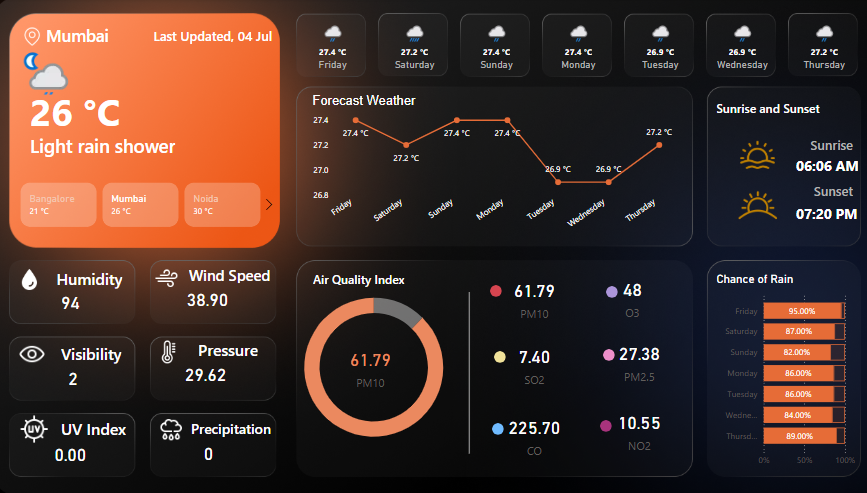

Layout of this report page (visuals, bound fields, positions):
{"tool":"powerbi","page":{"name":"Page 1","canvas":[1280,720],"ordinal":0},"visuals":[{"type":"advancedSlicerVisual","fields":{"Values":["Location.location.name"]},"box":[16,260,398,74],"z":0},{"type":"shape","box":[54,88,214,148],"z":1000},{"type":"shape","box":[54,162,376,98],"z":2000},{"type":"shape","box":[78,10,188,86],"z":3000},{"type":"shape","box":[100,26,304,56],"z":4000},{"type":"image","box":[16,38,84,36],"z":5000},{"type":"cardVisual","fields":{"Data":["Min(Current.current.condition.icon)"]},"box":[16.2,56.2,117.5,88.8],"z":6000},{"type":"image","box":[15.8,384.5,76.3,41.8],"z":7000},{"type":"image","box":[200,382,102,44],"z":8000},{"type":"image","box":[6,594,110,52],"z":9000},{"type":"image","box":[216,598,84,48],"z":10000},{"type":"image","box":[218.9,488.2,70.6,43.2],"z":11000},{"type":"image","box":[22,486,72,52],"z":12000},{"type":"shape","box":[80.6,381.6,119.5,43.2],"z":13000},{"type":"shape","box":[269.3,384.5,145.4,25.9],"z":14000},{"type":"shape","box":[100,490,120,44],"z":15000},{"type":"shape","box":[296.6,483.8,108,43.2],"z":16000},{"type":"shape","box":[286.6,593.3,169.9,51.8],"z":17000},{"type":"shape","box":[100,598,120,44],"z":18000},{"type":"card","fields":{"Values":["Sum(Current.current.humidity)"]},"box":[10.1,410.4,205.9,56.2],"z":19000},{"type":"card","fields":{"Values":["Sum(Current.current.wind_kph)"]},"box":[216,406.1,188.6,56.2],"z":20000},{"type":"card","fields":{"Values":["Sum(Current.current.vis_km)"]},"box":[12.9,520,207.1,54.3],"z":21000},{"type":"card","fields":{"Values":["Sum(Current.current.pressure_in)"]},"box":[204.5,514.1,205.9,56.2],"z":22000},{"type":"card","fields":{"Values":["Sum(Current.current.uv)"]},"box":[10,628.6,205.7,55.7],"z":23000},{"type":"card","fields":{"Values":["Sum(Current.current.precip_in)"]},"box":[208.8,627.8,205.9,54.7],"z":24000},{"type":"advancedSlicerVisual","fields":{"Values":["Forecast_days.Day_Name"]},"box":[430,25,828.8,97.5],"z":25000},{"type":"lineChart","title":"Forecast Weather","fields":{"Y":["Sum(Forecast_days.forecast.forecastday.day.avgtemp_c)"],"Category":["Forecast_days.Day_Name"]},"box":[456.5,136.8,538.6,210.2],"z":26000},{"type":"shape","box":[995,136.8,244.8,43.2],"z":27000},{"type":"shape","box":[1157.8,204.5,122.4,73.4],"z":28000},{"type":"shape","box":[1157.6,252,122.4,115.2],"z":29000},{"type":"shape","box":[1103,190.1,136.8,43.2],"z":30000},{"type":"shape","box":[1077.1,256.3,162.7,43.2],"z":31000},{"type":"image","box":[1048.3,195.8,108,60.5],"z":32000},{"type":"image","box":[1059.8,256.3,86.4,83.5],"z":33000},{"type":"hundredPercentStackedBarChart","title":"   Chance of Rain","fields":{"Y":["Sum(Forecast_days.forecast.forecastday.day.daily_chance_of_rain)","_Measure.Left_value_Rain"],"Category":["Forecast_days.Day_Name"]},"box":[1038,395,210,289],"z":34000},{"type":"shape","box":[405.7,382.9,244.3,42.9],"z":34001},{"type":"card","fields":{"Values":["Sum(Current.current.air_quality.o3)"]},"box":[817.1,382.9,211.4,94.3],"z":34002},{"type":"card","fields":{"Values":["Sum(Current.current.air_quality.pm2_5)"]},"box":[827.1,475.7,211.4,94.3],"z":34003},{"type":"card","fields":{"Values":["Sum(Current.current.air_quality.no2)"]},"box":[827.1,574.3,211.4,94.3],"z":34004},{"type":"card","fields":{"Values":["Sum(Current.current.air_quality.pm10)"]},"box":[675.7,384.3,211.4,94.3],"z":34005},{"type":"card","fields":{"Values":["Sum(Current.current.air_quality.so2)"]},"box":[675.7,480,211.4,94.3],"z":34006},{"type":"card","fields":{"Values":["Sum(Current.current.air_quality.co)"]},"box":[675.7,581.4,211.4,94.3],"z":34007},{"type":"shape","box":[717.1,412.9,17.1,17.1],"z":34008},{"type":"shape","box":[722.9,508.6,17.1,17.1],"z":34009},{"type":"shape","box":[720,611.4,17.1,17.1],"z":34010},{"type":"shape","box":[875.7,607.1,17.1,17.1],"z":34011},{"type":"shape","box":[880,505.7,17.1,17.1],"z":34012},{"type":"shape","box":[884.3,414.3,17.1,17.1],"z":34013},{"type":"shape","box":[567.1,422.9,240,232.9],"z":34014},{"type":"card","fields":{"Values":["Sum(Current.current.air_quality.pm10)"]},"box":[438.6,484.3,211.4,94.3],"z":34015},{"type":"donutChart","fields":{"Y":["Sum(Current.current.air_quality.pm10)","_Measure.Left_value_pm10"]},"box":[414.3,401.4,270,260],"z":34016}]}

Visuals, with their boxes in screenshot pixels (x1, y1, x2, y2), scaled from the page's 1280x720 canvas onto the 867x493 screenshot:
advancedSlicerVisual - Location.location.name: (x1=11, y1=178, x2=280, y2=229)
shape: (x1=37, y1=60, x2=182, y2=162)
shape: (x1=37, y1=111, x2=291, y2=178)
shape: (x1=53, y1=7, x2=180, y2=66)
shape: (x1=68, y1=18, x2=274, y2=56)
image: (x1=11, y1=26, x2=68, y2=51)
cardVisual - Min(Current.current.condition.icon): (x1=11, y1=38, x2=91, y2=99)
image: (x1=11, y1=263, x2=62, y2=292)
image: (x1=135, y1=262, x2=205, y2=292)
image: (x1=4, y1=407, x2=79, y2=442)
image: (x1=146, y1=409, x2=203, y2=442)
image: (x1=148, y1=334, x2=196, y2=364)
image: (x1=15, y1=333, x2=64, y2=368)
shape: (x1=55, y1=261, x2=136, y2=291)
shape: (x1=182, y1=263, x2=281, y2=281)
shape: (x1=68, y1=336, x2=149, y2=366)
shape: (x1=201, y1=331, x2=274, y2=361)
shape: (x1=194, y1=406, x2=309, y2=442)
shape: (x1=68, y1=409, x2=149, y2=440)
card - Sum(Current.current.humidity): (x1=7, y1=281, x2=146, y2=319)
card - Sum(Current.current.wind_kph): (x1=146, y1=278, x2=274, y2=317)
card - Sum(Current.current.vis_km): (x1=9, y1=356, x2=149, y2=393)
card - Sum(Current.current.pressure_in): (x1=139, y1=352, x2=278, y2=390)
card - Sum(Current.current.uv): (x1=7, y1=430, x2=146, y2=469)
card - Sum(Current.current.precip_in): (x1=141, y1=430, x2=281, y2=467)
advancedSlicerVisual - Forecast_days.Day_Name: (x1=291, y1=17, x2=853, y2=84)
"Forecast Weather" lineChart: (x1=309, y1=94, x2=674, y2=238)
shape: (x1=674, y1=94, x2=840, y2=123)
shape: (x1=784, y1=140, x2=866, y2=190)
shape: (x1=784, y1=173, x2=866, y2=251)
shape: (x1=747, y1=130, x2=840, y2=160)
shape: (x1=730, y1=175, x2=840, y2=205)
image: (x1=710, y1=134, x2=783, y2=175)
image: (x1=718, y1=175, x2=776, y2=233)
"   Chance of Rain" hundredPercentStackedBarChart: (x1=703, y1=270, x2=845, y2=468)
shape: (x1=275, y1=262, x2=440, y2=292)
card - Sum(Current.current.air_quality.o3): (x1=553, y1=262, x2=697, y2=327)
card - Sum(Current.current.air_quality.pm2_5): (x1=560, y1=326, x2=703, y2=390)
card - Sum(Current.current.air_quality.no2): (x1=560, y1=393, x2=703, y2=458)
card - Sum(Current.current.air_quality.pm10): (x1=458, y1=263, x2=601, y2=328)
card - Sum(Current.current.air_quality.so2): (x1=458, y1=329, x2=601, y2=393)
card - Sum(Current.current.air_quality.co): (x1=458, y1=398, x2=601, y2=463)
shape: (x1=486, y1=283, x2=497, y2=294)
shape: (x1=490, y1=348, x2=501, y2=360)
shape: (x1=488, y1=419, x2=499, y2=430)
shape: (x1=593, y1=416, x2=605, y2=427)
shape: (x1=596, y1=346, x2=608, y2=358)
shape: (x1=599, y1=284, x2=611, y2=295)
shape: (x1=384, y1=290, x2=547, y2=449)
card - Sum(Current.current.air_quality.pm10): (x1=297, y1=332, x2=440, y2=396)
donutChart - Sum(Current.current.air_quality.pm10) x _Measure.Left_value_pm10: (x1=281, y1=275, x2=464, y2=453)
